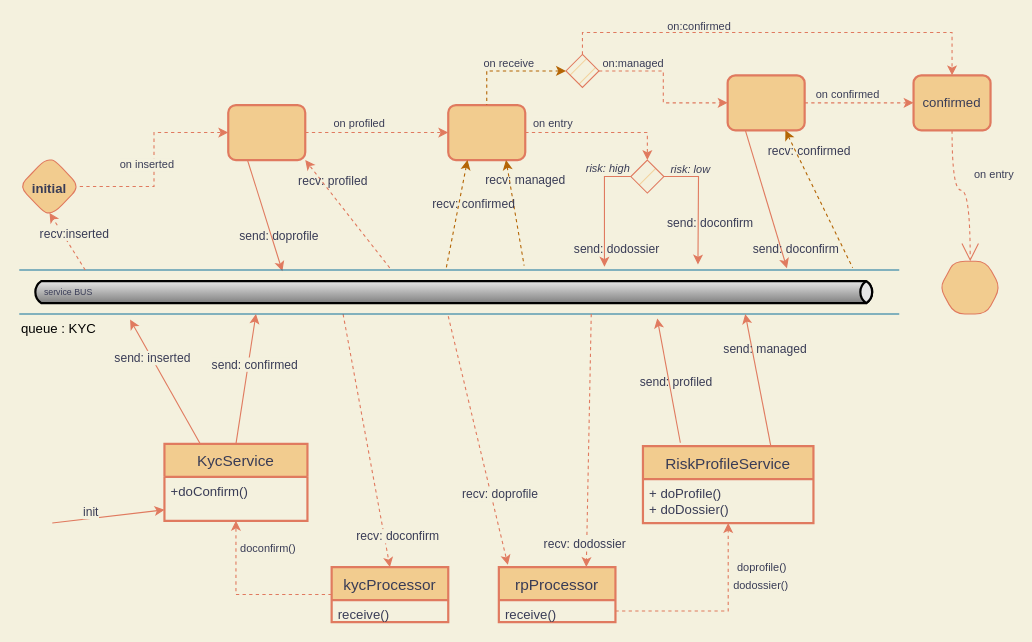
This 1032x642 diagram has some shape labels left out. Here are the shapes that lost their labels. From the top down, the centre of each, then its label:
At point (765, 102): "managed".
At point (266, 132): "inserted".
At point (486, 132): "profiled".
At point (969, 287): "final".
